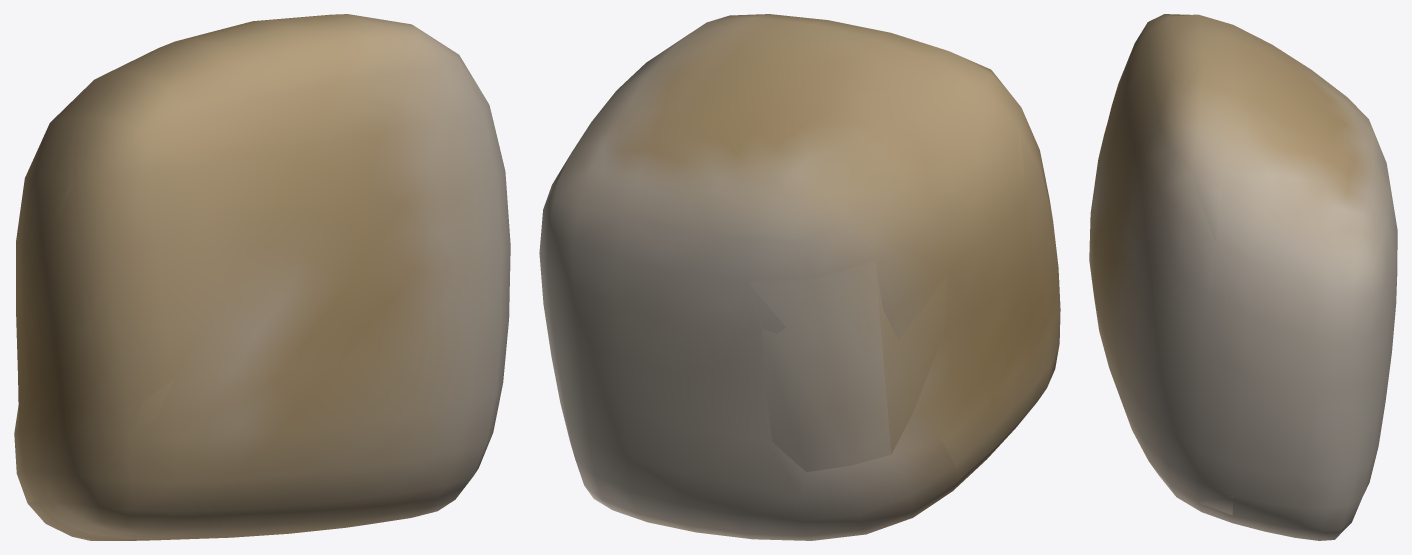
File: R tarsi secundum.fbx
The picture shows the model from 3 angles, left to right: view 1: azimuth 30°, elevation 25°; view 2: azimuth 150°, elevation 25°; view 3: azimuth 270°, elevation 25°; orthographic projection. The views are drawn at different scales.
Visible parts, largest first — view 1: R tarsi secundum, R tarsi secundum low; view 2: R tarsi secundum, R tarsi secundum low; view 3: R tarsi secundum, R tarsi secundum low.
Boxes of the visible parts, x1=… form: R tarsi secundum: x1=14, y1=14, x2=510, y2=540; R tarsi secundum low: x1=43, y1=22, x2=488, y2=511; R tarsi secundum: x1=539, y1=14, x2=1060, y2=540; R tarsi secundum low: x1=734, y1=14, x2=1052, y2=472; R tarsi secundum: x1=1089, y1=14, x2=1397, y2=540; R tarsi secundum low: x1=1177, y1=27, x2=1270, y2=515.
Bounding box in the file's own units: 0.9428 × 0.9997 × 0.6566.
